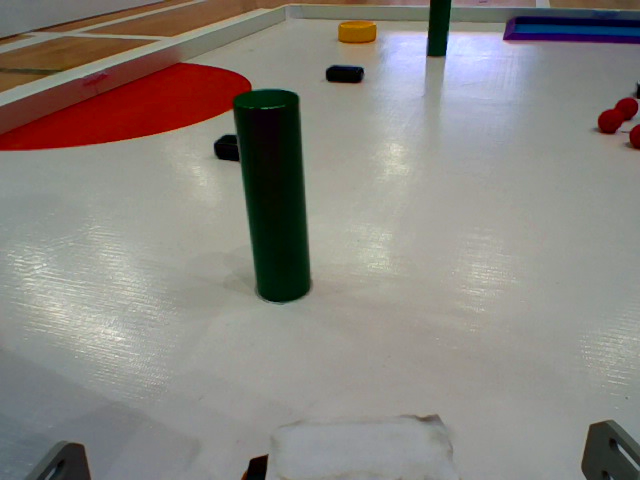black: (211, 131, 259, 165), (326, 65, 366, 85)
kuang: (499, 14, 640, 52)
red: (596, 108, 621, 131), (614, 96, 637, 116), (627, 123, 640, 148)
yellow: (335, 16, 379, 40)
zhuzi: (229, 90, 314, 303), (422, 1, 455, 62)
